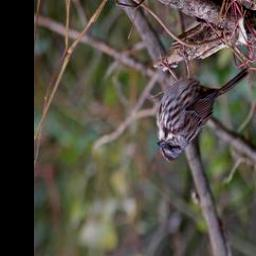Sparrow: (156, 50, 251, 163)
